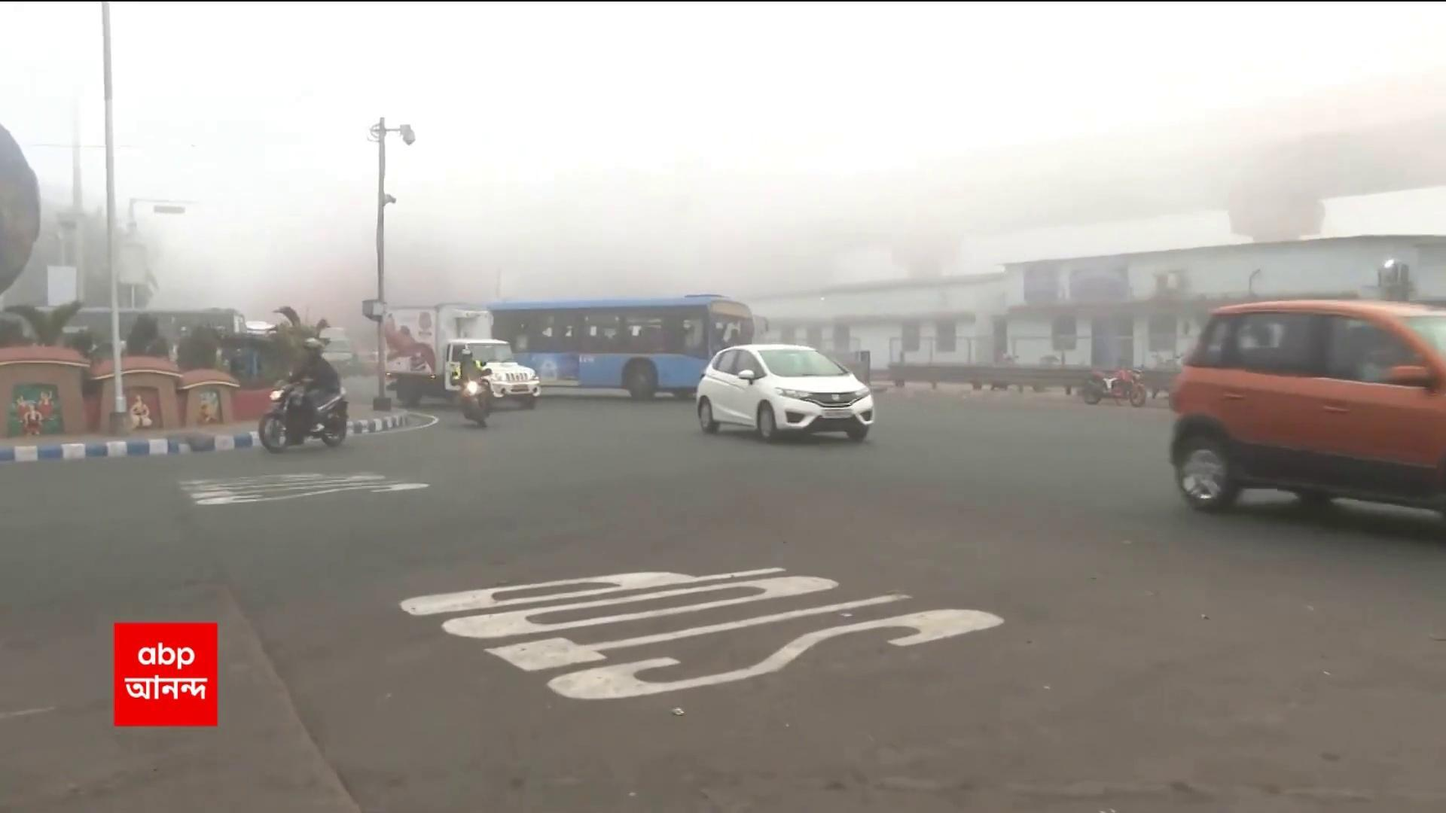Bike: (258, 337, 351, 454), (451, 348, 495, 427)
Bus: (490, 292, 764, 399)
Car: (1166, 293, 1446, 516), (695, 342, 879, 446)
Truck: (373, 298, 545, 415)
